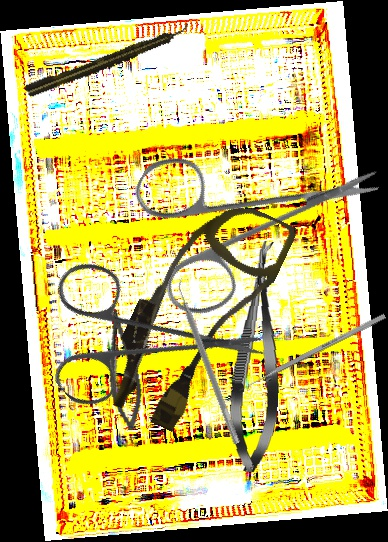Cannula: (94, 180, 299, 445)
Handpiece: (23, 21, 193, 100)
Iris Scissors: (93, 72, 386, 367), (4, 203, 271, 471)
Micro Scissor: (226, 239, 289, 474), (95, 307, 150, 433)
Pusher: (237, 313, 387, 393)
Spatula Surgical: (171, 277, 247, 445)
